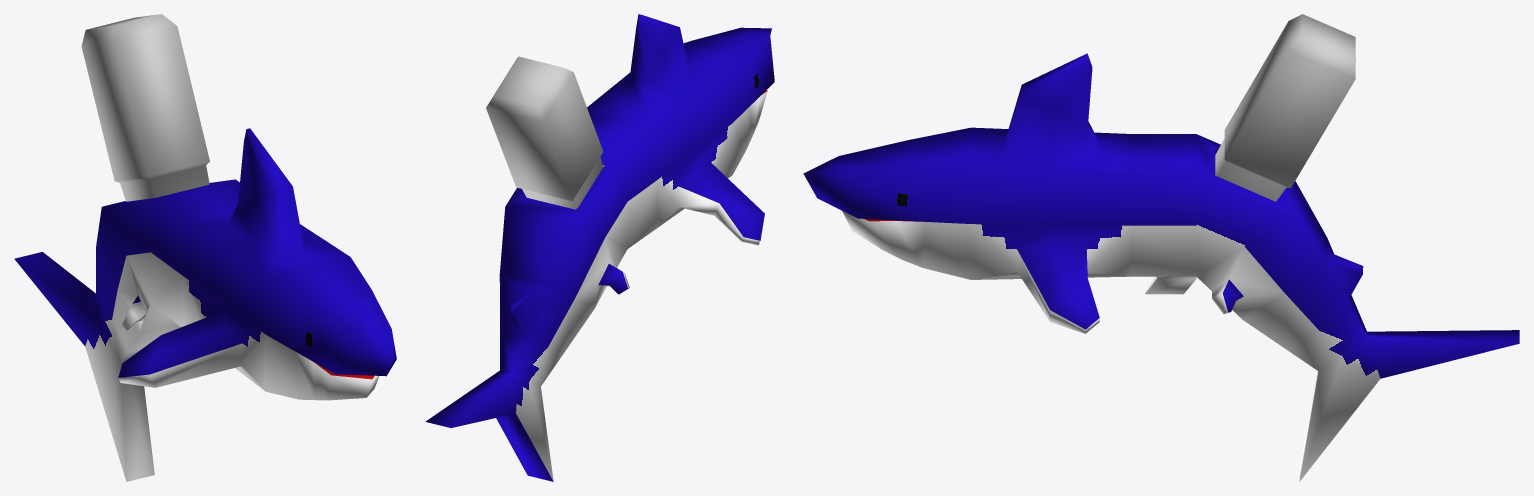
File: ShargGun.fbx
3 renders of one model, left to right at view 1: azimuth 30°, elevation 25°; view 2: azimuth 150°, elevation 25°; view 3: azimuth 270°, elevation 25°, orthographic. The views are drawn at different scales.
Visible parts, largest first — view 1: Tank, Sbark.001; view 2: Tank, Sbark.001; view 3: Tank, Sbark.001.
Boxes of the visible parts, x1,y1,x2,y2 form: Tank: [14, 128, 396, 481]; Sbark.001: [81, 14, 209, 201]; Tank: [425, 14, 774, 481]; Sbark.001: [486, 56, 603, 209]; Tank: [803, 53, 1519, 481]; Sbark.001: [1215, 14, 1355, 201].
Size of the model in its own units: 574 by 1380 by 954.
